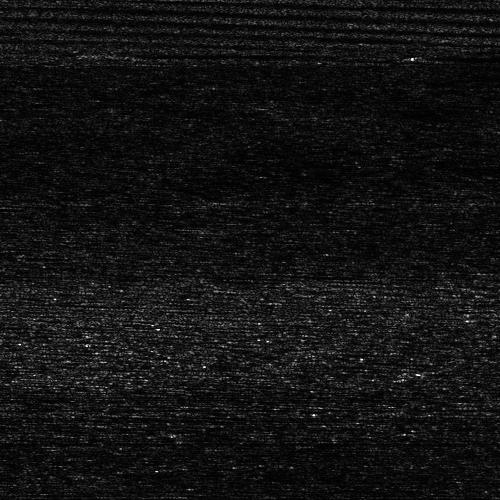rock: (108, 47, 139, 58), (406, 54, 459, 59)
shadow: (124, 47, 189, 58), (433, 54, 500, 59)
